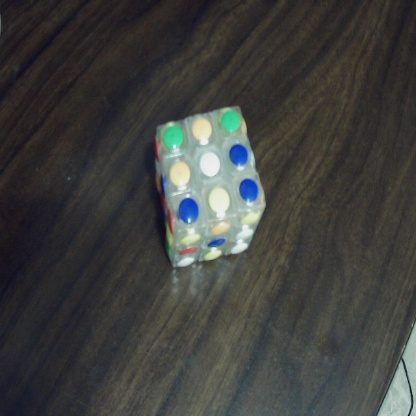Rubix Cube: (155, 105, 261, 266)
